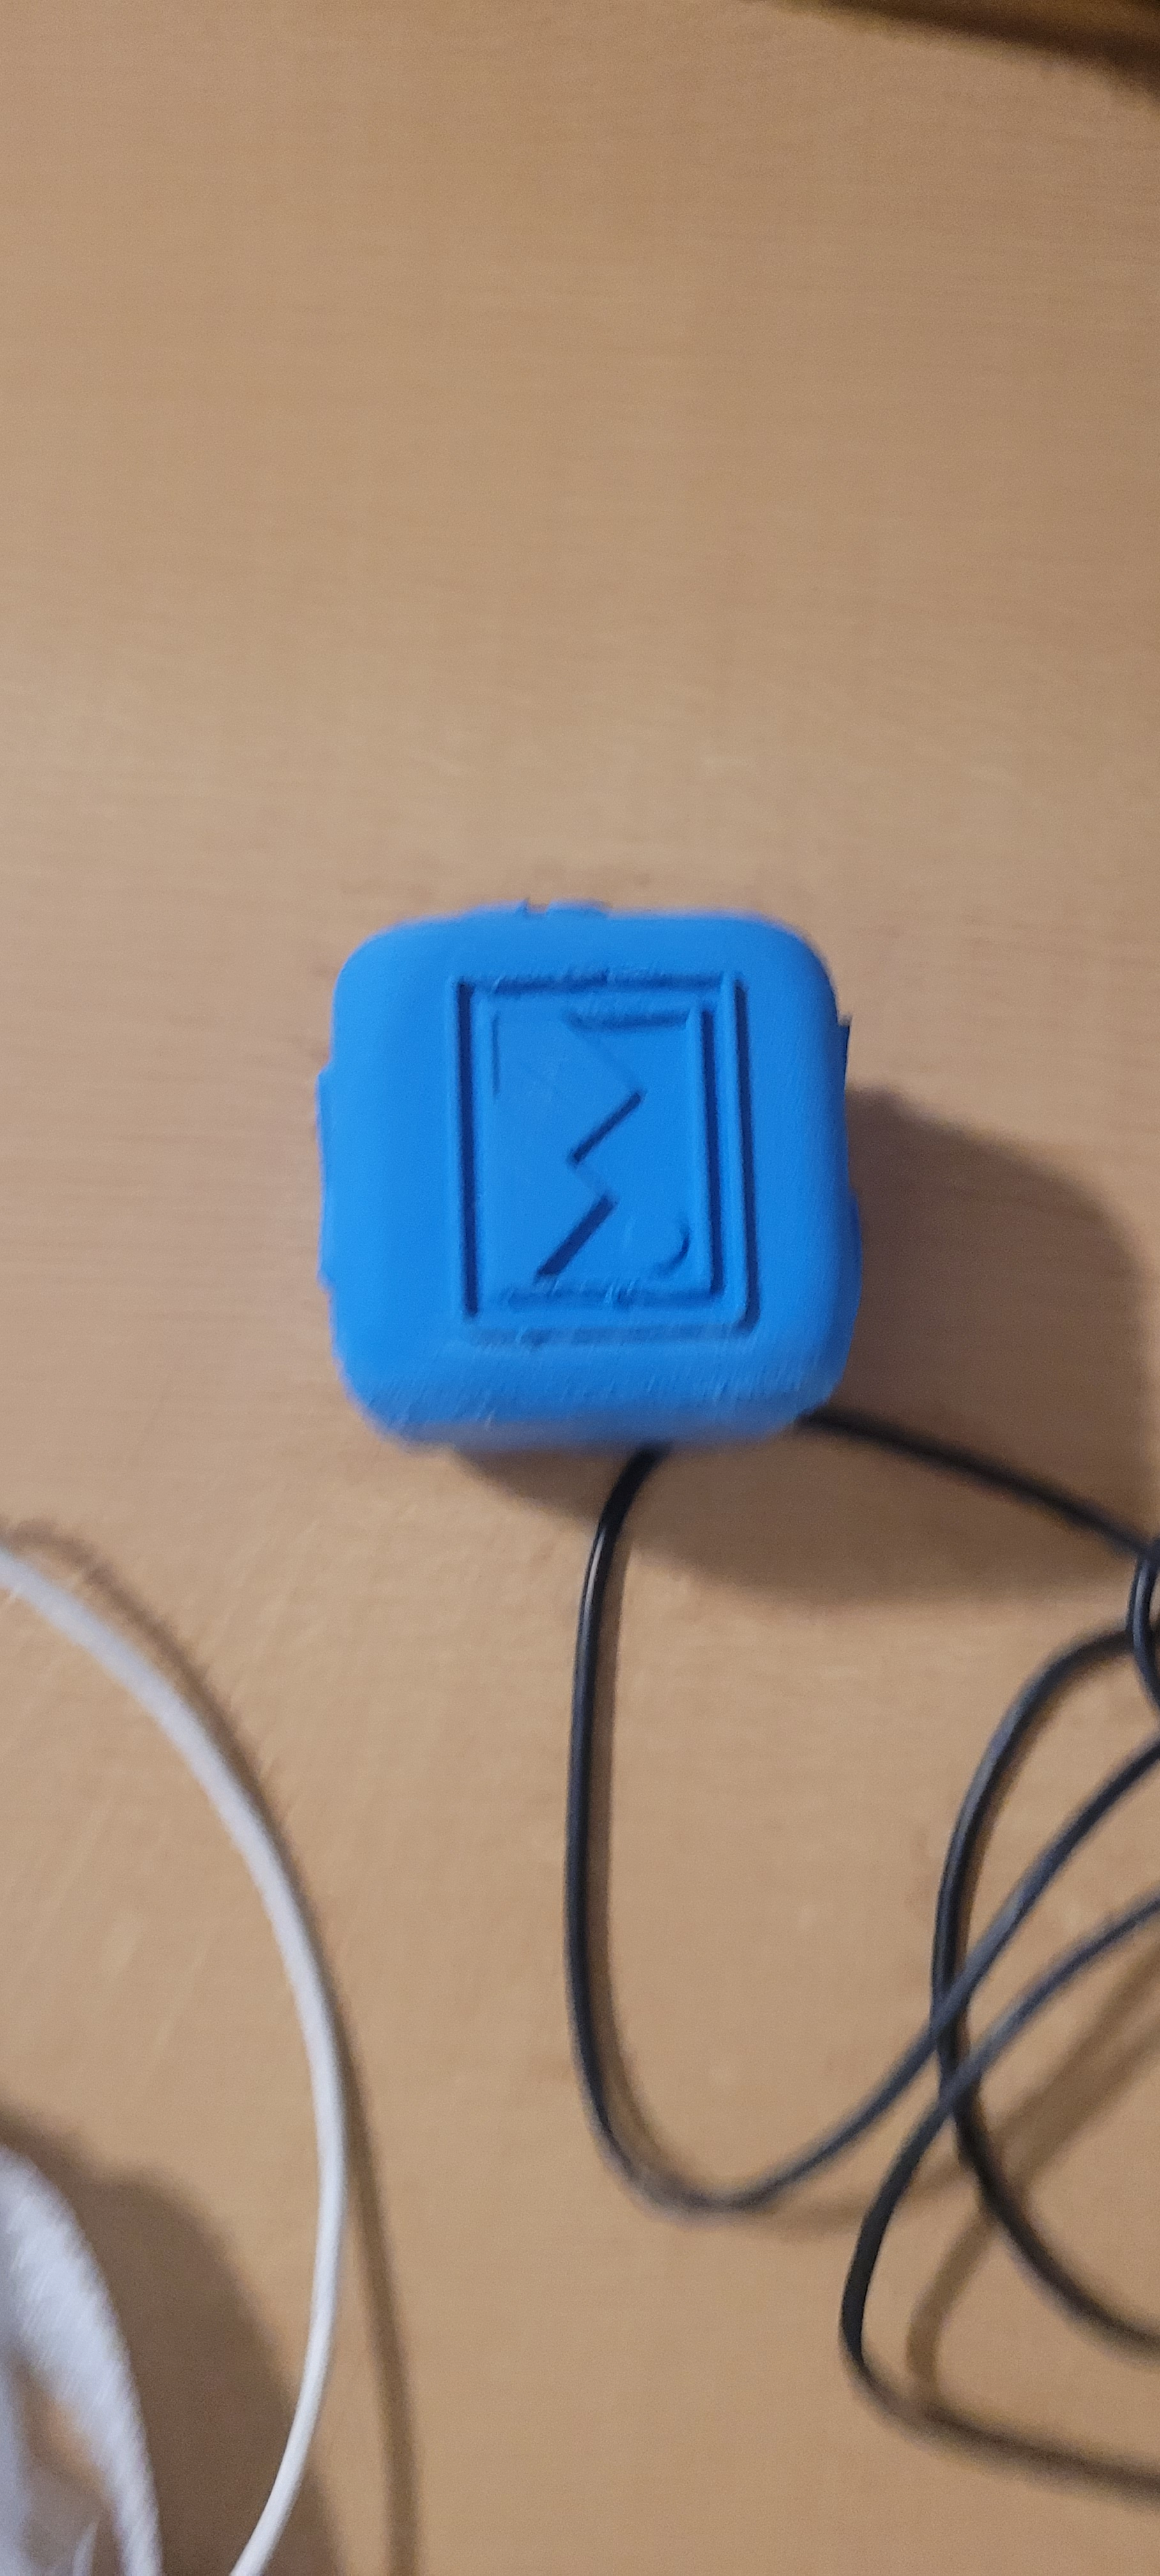Story: (399, 943, 830, 1364)
